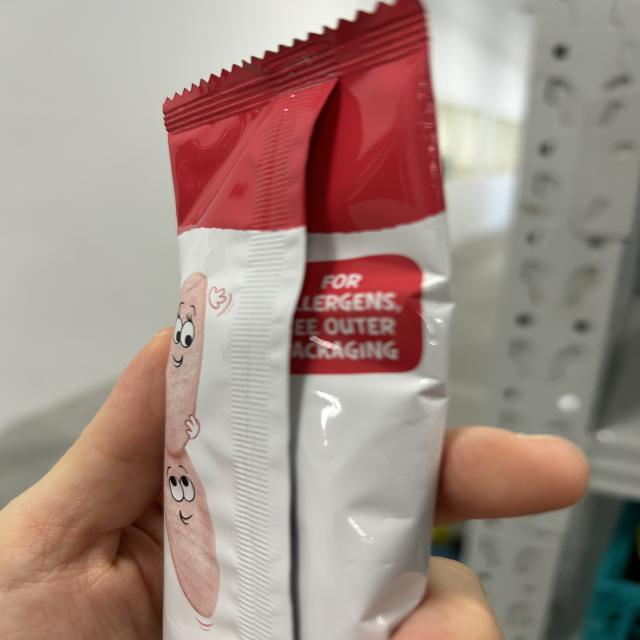object_name: (169, 87, 419, 640)
